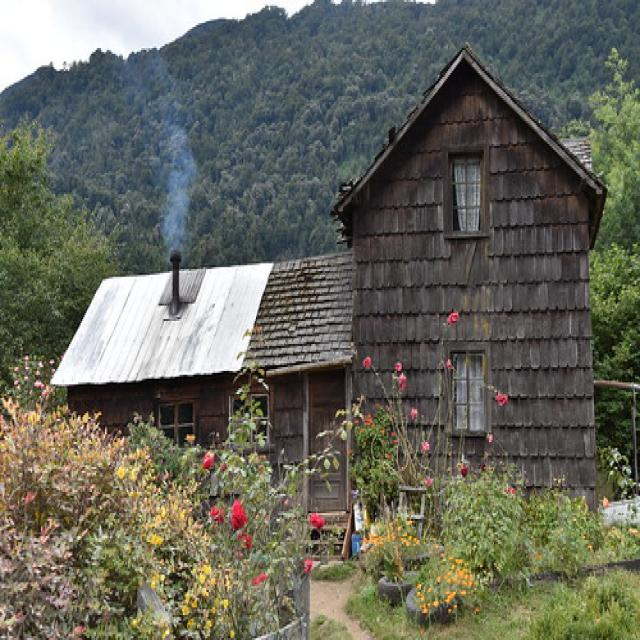Normal_building: (46, 39, 606, 554)
